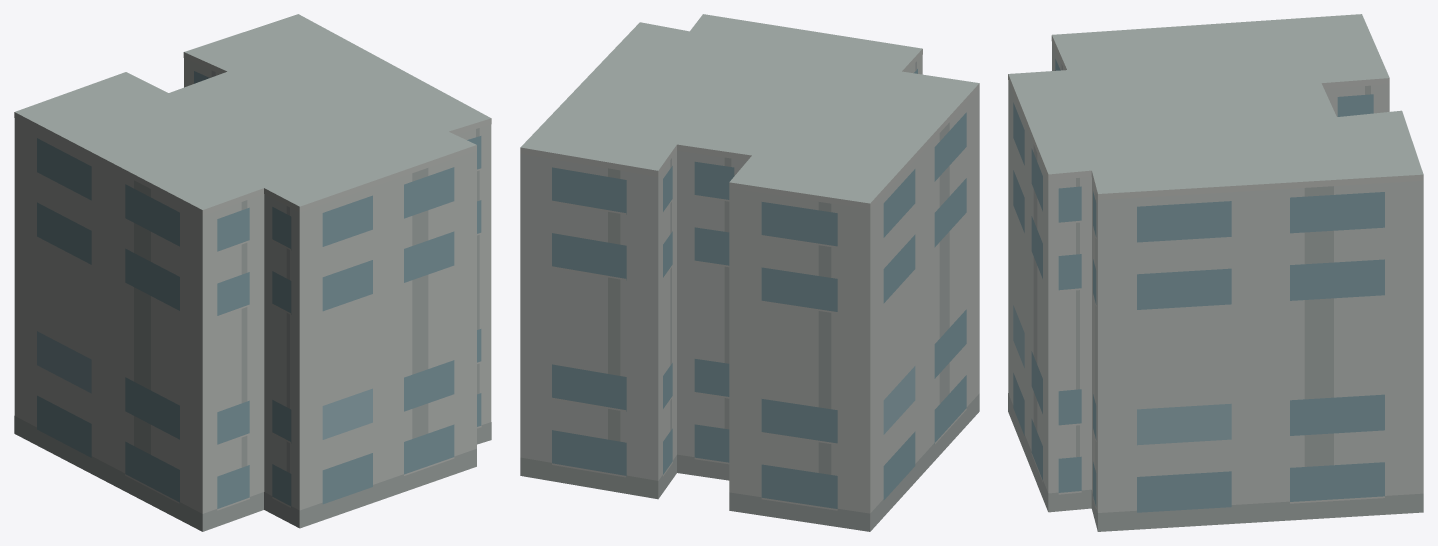
Rendered from survey-upis-32530297.glb.
The picture shows the model from 3 angles, left to right: view 1: azimuth 30°, elevation 25°; view 2: azimuth 150°, elevation 25°; view 3: azimuth 270°, elevation 25°; orthographic projection. The views are drawn at different scales.
Visible parts, largest first — view 1: survey-upis-32530297.tmp; view 2: survey-upis-32530297.tmp; view 3: survey-upis-32530297.tmp.
Boxes of the visible parts, left/top/right/bottom form: survey-upis-32530297.tmp: left=14, top=14, right=491, bottom=531; survey-upis-32530297.tmp: left=520, top=14, right=979, bottom=531; survey-upis-32530297.tmp: left=1008, top=14, right=1423, bottom=531.
Bounding box in the file's own units: 15.21 × 13.3 × 14.83.
